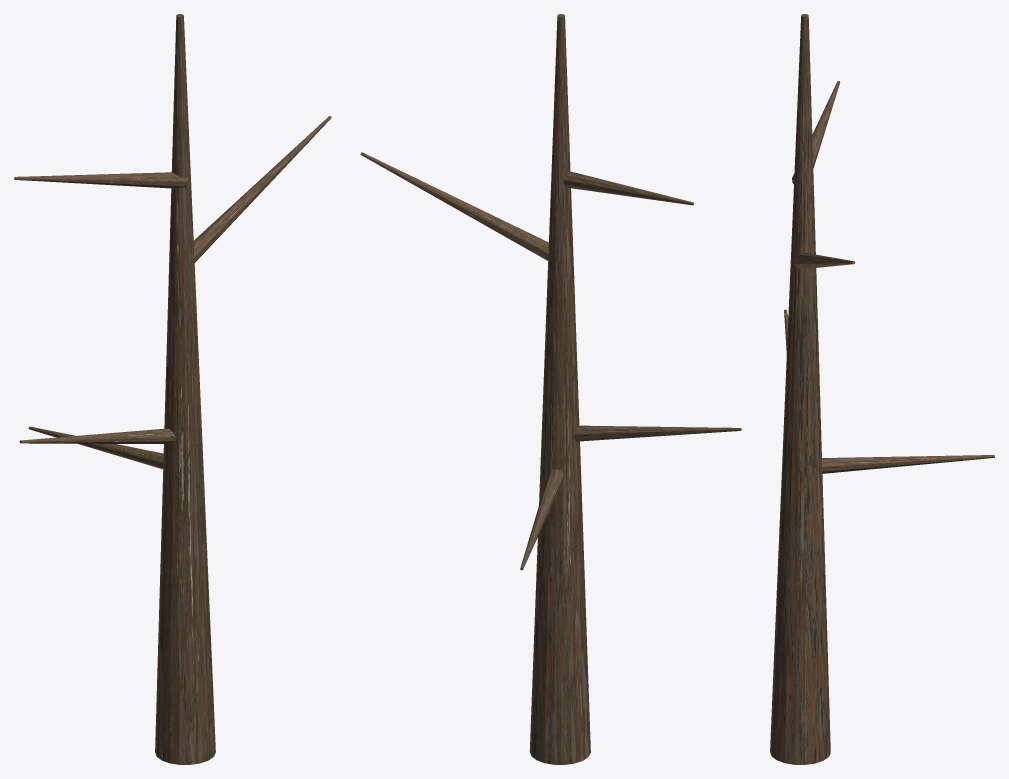
File: detail_snag.glb
The picture shows the model from 3 angles, left to right: view 1: azimuth 30°, elevation 25°; view 2: azimuth 150°, elevation 25°; view 3: azimuth 270°, elevation 25°; orthographic projection.
Parts seen in each view (by area): view 1: Cone; view 2: Cone; view 3: Cone.
Boxes of the visible parts, left/top/right/bottom form: Cone: left=14, top=14, right=331, bottom=764; Cone: left=360, top=14, right=741, bottom=764; Cone: left=770, top=14, right=994, bottom=764.
Size of the model in its own units: 3.14 by 6.4 by 1.77.
Materials: 1 (1 with a texture image).
